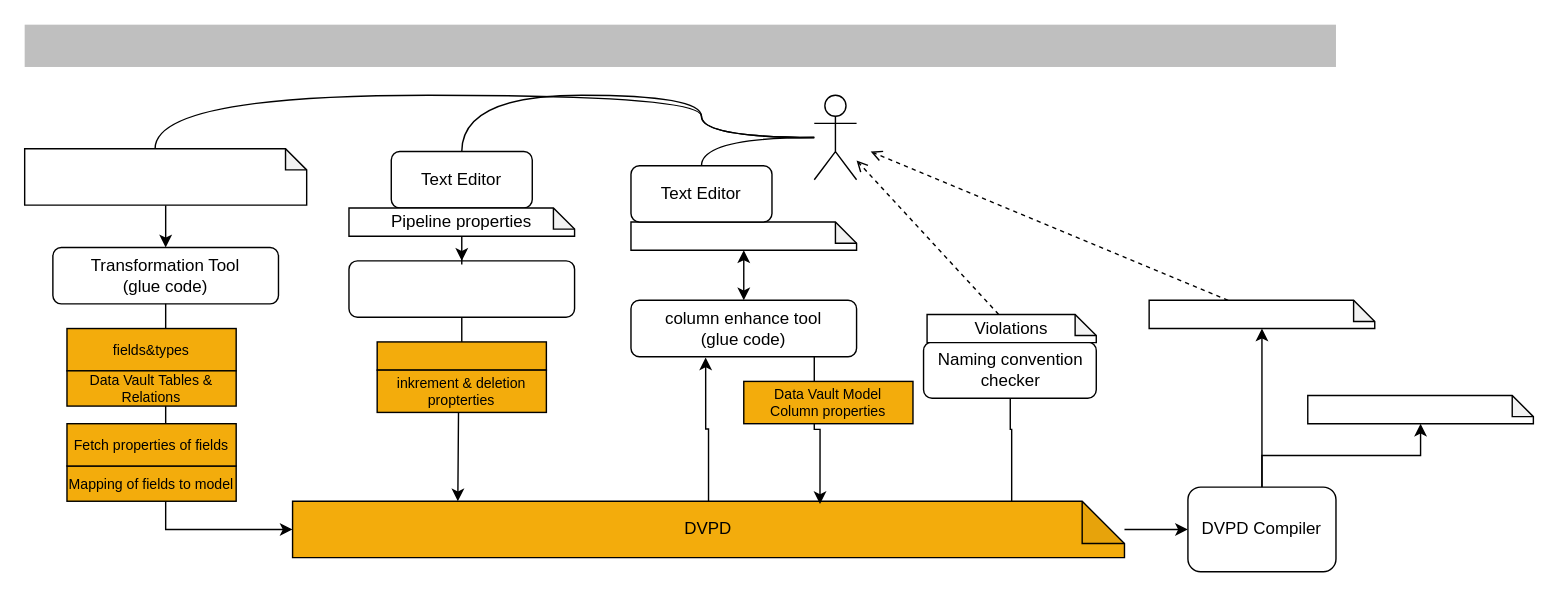
This 1558x596 diagram has some shape labels left out. Each missing label, with the centre of its shape:
"Basic pipeline properties" belongs at point 461,355.
"Column properties" belongs at point 743,235.
"DWH Developer" belongs at point 835,137.
"Errors and Warnings" belongs at point 1261,314.
"Example B: proprietary mapping tool" belongs at point 679,45.
"Model Documentation" belongs at point 1419,409.
"property merge tool (glue code)" belongs at point 461,288.
"Specification Excel Sheet" belongs at point 165,176.
